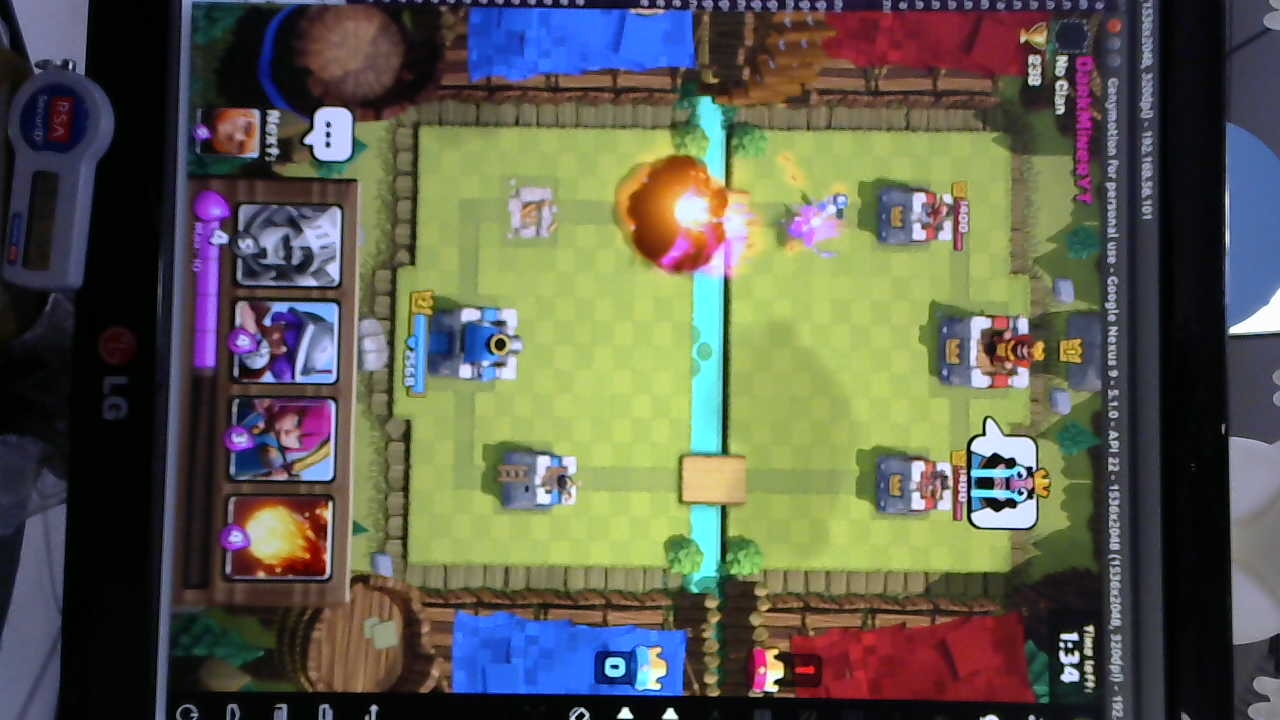fireballL: (630, 160, 723, 270)
